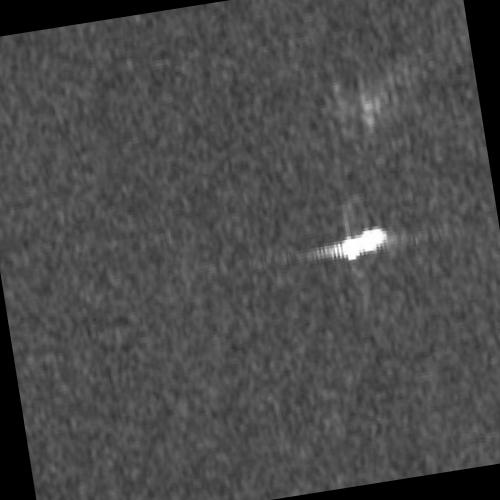ship: (340, 224, 388, 260)
